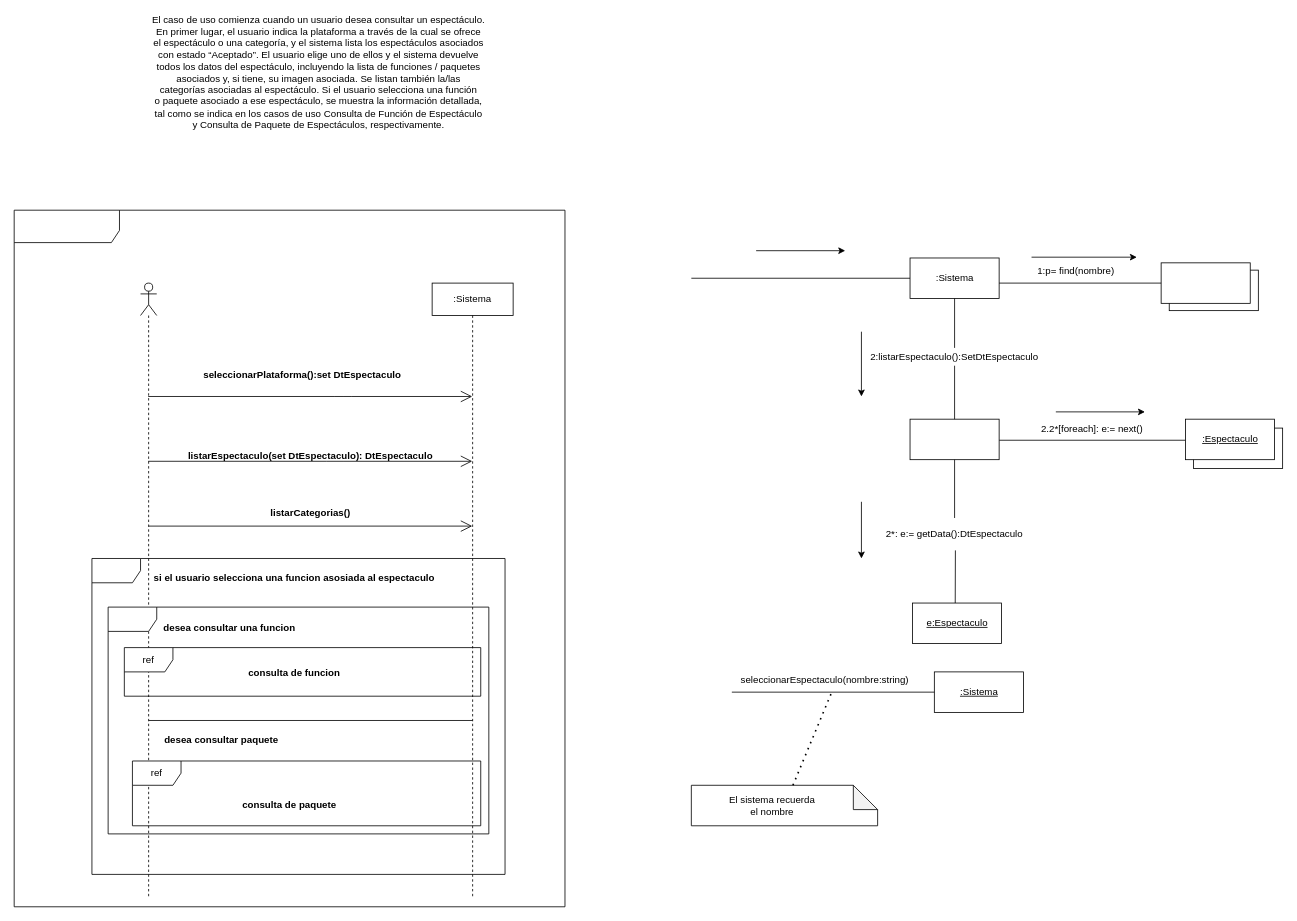
The diagram is 1297 pixels wide and 921 high, and some of its shapes have lost their labels. Here are the shapes that lost their labels. From the top down, the box of each, then its label:
(1160, 262, 1250, 303): :Plataforma
(909, 418, 999, 460): P:Plataforma
(13, 209, 565, 907): consulta espectaculo
(91, 558, 505, 874): opc
(107, 606, 489, 834): alt
